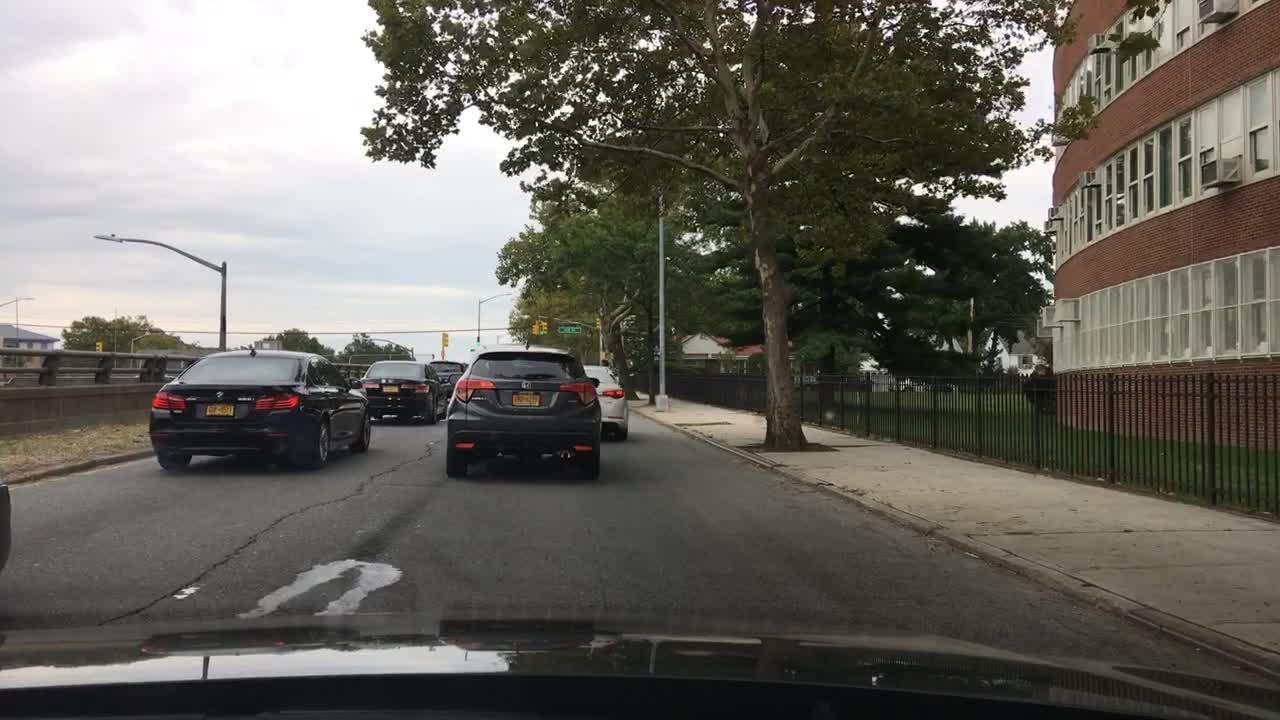Honda: (520, 377, 535, 394)
bmw: (211, 386, 229, 404)
